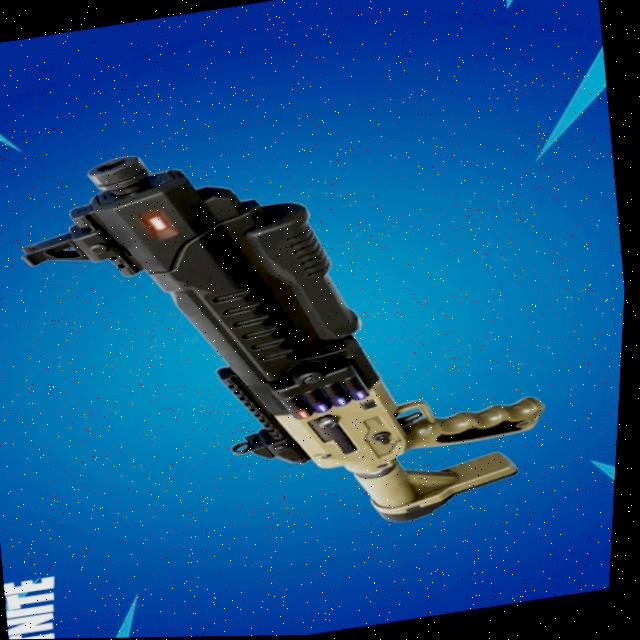firearm: (0, 96, 575, 576)
